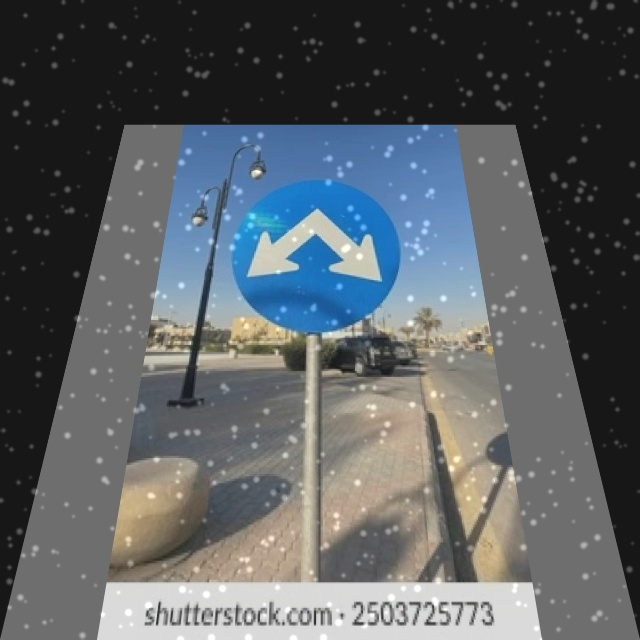Pass_Either_Side: (219, 177, 414, 330)
